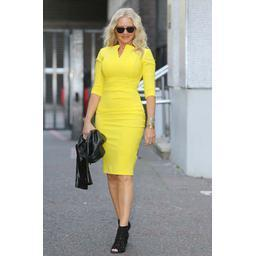dress: (90, 45, 156, 176)
